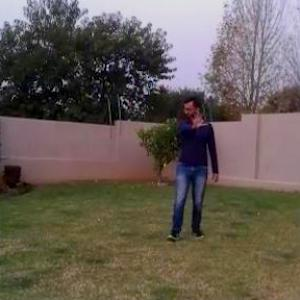follow_hand: (186, 108, 210, 128)
